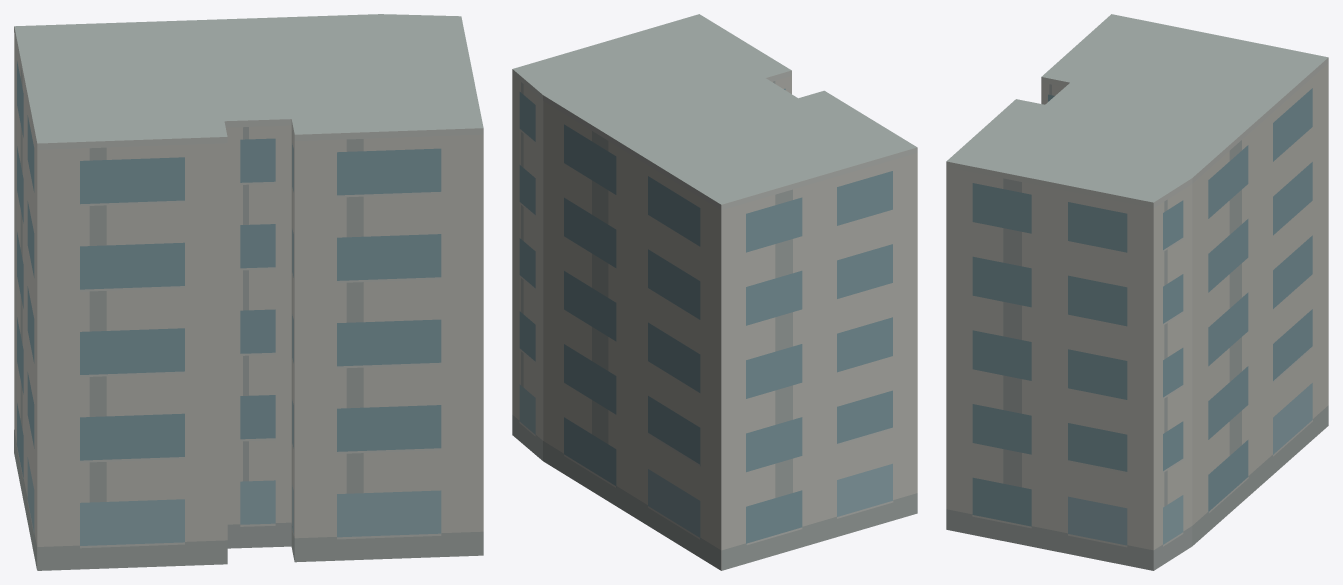
File: survey-upis-32583245.glb
3 renders of one model, left to right at view 1: azimuth 30°, elevation 25°; view 2: azimuth 150°, elevation 25°; view 3: azimuth 270°, elevation 25°, orthographic. The views are drawn at different scales.
Visible parts, largest first — view 1: survey-upis-32583245.tmp; view 2: survey-upis-32583245.tmp; view 3: survey-upis-32583245.tmp.
Part boxes in pixels (box(x1,y1,x2,y2)): survey-upis-32583245.tmp: box(14, 14, 483, 570); survey-upis-32583245.tmp: box(512, 14, 917, 570); survey-upis-32583245.tmp: box(946, 14, 1328, 570).
Bounding box in the file's own units: 17.47 × 15.9 × 14.97.
